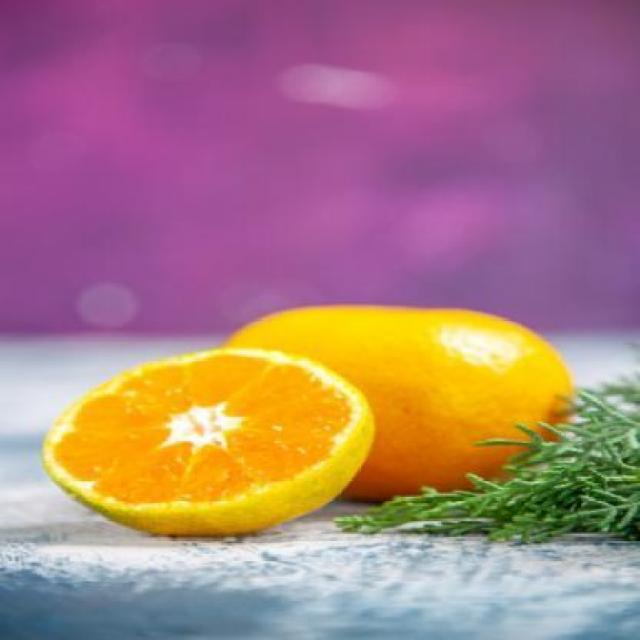Jeruk Sudah Matang: (212, 303, 580, 503)
